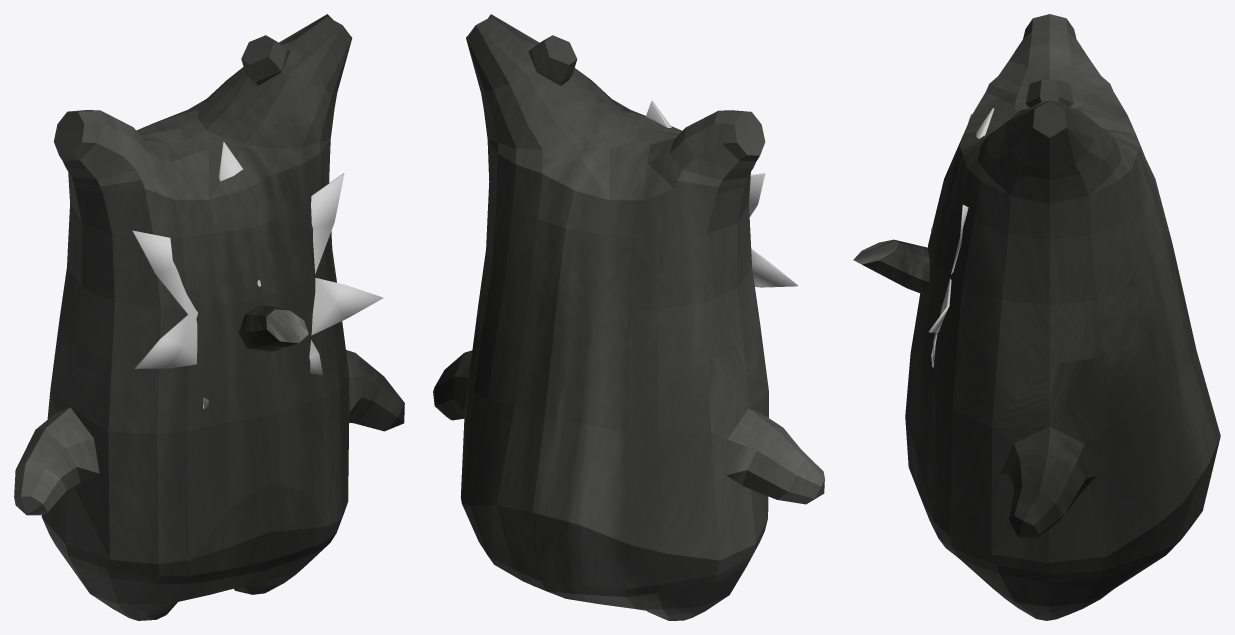
Rendered from frame_0000.obj.
3 views of the same model, side by side, from view 1: azimuth 30°, elevation 25°; view 2: azimuth 150°, elevation 25°; view 3: azimuth 270°, elevation 25° (orthographic).
Parts seen in each view (by area): view 1: korok, leaf.003_柱体.013, nose.003_柱体.011; view 2: korok, leaf.003_柱体.013; view 3: korok, nose.003_柱体.011, leaf.003_柱体.013.
Part boxes in pixels (x1=…): korok: x1=14, y1=14, x2=404, y2=620; leaf.003_柱体.013: x1=132, y1=141, x2=383, y2=408; nose.003_柱体.011: x1=238, y1=305, x2=308, y2=351; korok: x1=433, y1=14, x2=824, y2=620; leaf.003_柱体.013: x1=646, y1=100, x2=797, y2=287; korok: x1=905, y1=14, x2=1220, y2=620; nose.003_柱体.011: x1=853, y1=239, x2=929, y2=294; leaf.003_柱体.013: x1=928, y1=108, x2=994, y2=367.
Bounding box in the file's own units: 1.64 × 2.25 × 1.36.
